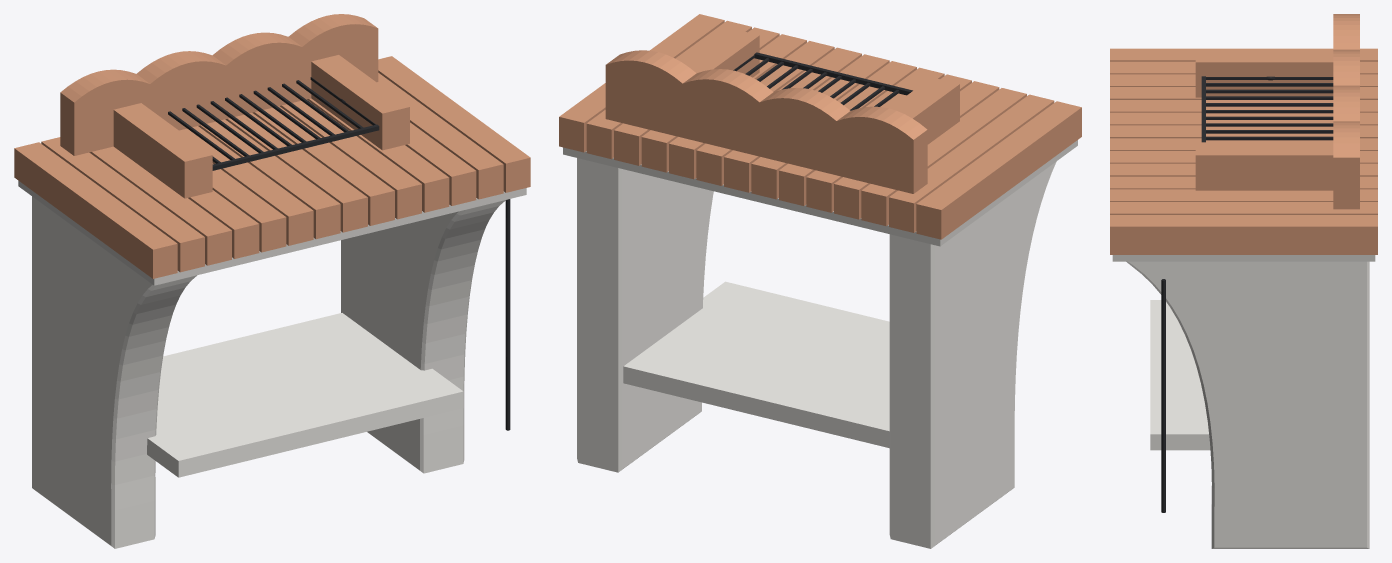
The model's file is BARBACUE2.glb.
3 renders of one model, left to right at view 1: azimuth 30°, elevation 25°; view 2: azimuth 150°, elevation 25°; view 3: azimuth 270°, elevation 25°, orthographic. The views are drawn at different scales.
Parts seen in each view (by area): view 1: leg-0, shelf-tablette, leg-1, firebox-dos, brick-0, firebox-flanc-0, firebox-flanc-1, brick-13, brick-1, counter-sous-face, brick-2, brick-7 (+11 smaller); view 2: leg-0, leg-1, shelf-tablette, firebox-dos, brick-0, brick-1, counter-sous-face, brick-2, brick-13, firebox-flanc-0, brick-6, brick-9 (+10 smaller); view 3: leg-1, brick-13, firebox-flanc-1, shelf-tablette, firebox-flanc-0, firebox-dos, brick-12, brick-11, brick-5, brick-6, brick-4, counter-sous-face (+20 smaller).
Boxes of the visible parts, x1,y1,x2,y2 form: leg-0: (32,196,196,548); shelf-tablette: (147,313,463,477); leg-1: (341,200,505,473); firebox-dos: (60,14,378,155); brick-0: (14,142,177,278); firebox-flanc-0: (113,103,212,198); firebox-flanc-1: (311,55,409,150); brick-13: (378,56,530,192); brick-1: (41,137,204,272); counter-sous-face: (18,180,526,285); brick-2: (89,146,231,265); brick-7: (225,113,367,232); leg-0: (889,161,1056,548); leg-1: (577,158,713,472); shelf-tablette: (623,281,889,448); firebox-dos: (605,50,927,193); brick-0: (916,101,1081,239); brick-1: (889,94,1054,232); counter-sous-face: (563,140,1077,246); brick-2: (861,88,1026,226); brick-13: (559,14,724,152); firebox-flanc-0: (889,77,959,144); brick-6: (751,61,916,199); brick-9: (669,41,834,179); leg-1: (1126,261,1369,548); brick-13: (1110,215,1377,254); firebox-flanc-1: (1195,142,1333,190); shelf-tablette: (1150,300,1210,450); firebox-flanc-0: (1195,49,1333,97); firebox-dos: (1333,14,1359,209); brick-12: (1110,202,1377,214); brick-11: (1110,189,1377,201); brick-5: (1110,112,1377,125); brick-6: (1110,125,1377,138); brick-4: (1110,100,1377,112); counter-sous-face: (1112,255,1375,261).
Size of the model in its own units: 0.96 by 0.97 by 0.6.
